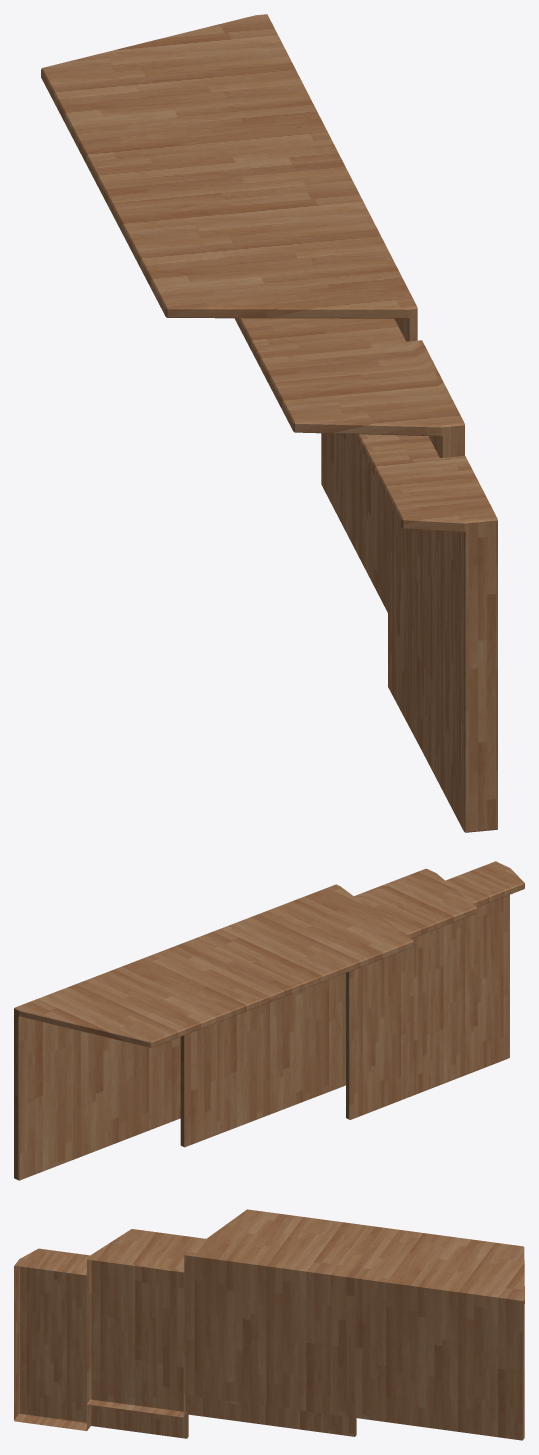
The model's file is Auditorium02_Wooden_Wall01.FBX.
3 views of the same model, one above another, from view 1: azimuth 30°, elevation 25°; view 2: azimuth 150°, elevation 25°; view 3: azimuth 270°, elevation 25° (orthographic). The views are drawn at different scales.
Parts seen in each view (by area): view 1: Auditorium02_Wooden_Wall01; view 2: Auditorium02_Wooden_Wall01; view 3: Auditorium02_Wooden_Wall01.
Part boxes in pixels (bbox=[...]): Auditorium02_Wooden_Wall01: bbox=[41, 14, 497, 832]; Auditorium02_Wooden_Wall01: bbox=[14, 861, 524, 1180]; Auditorium02_Wooden_Wall01: bbox=[14, 1209, 524, 1440].
Bounding box in the file's own units: 9359 × 8924 × 21969.
Materials: 3 (1 with a texture image).
